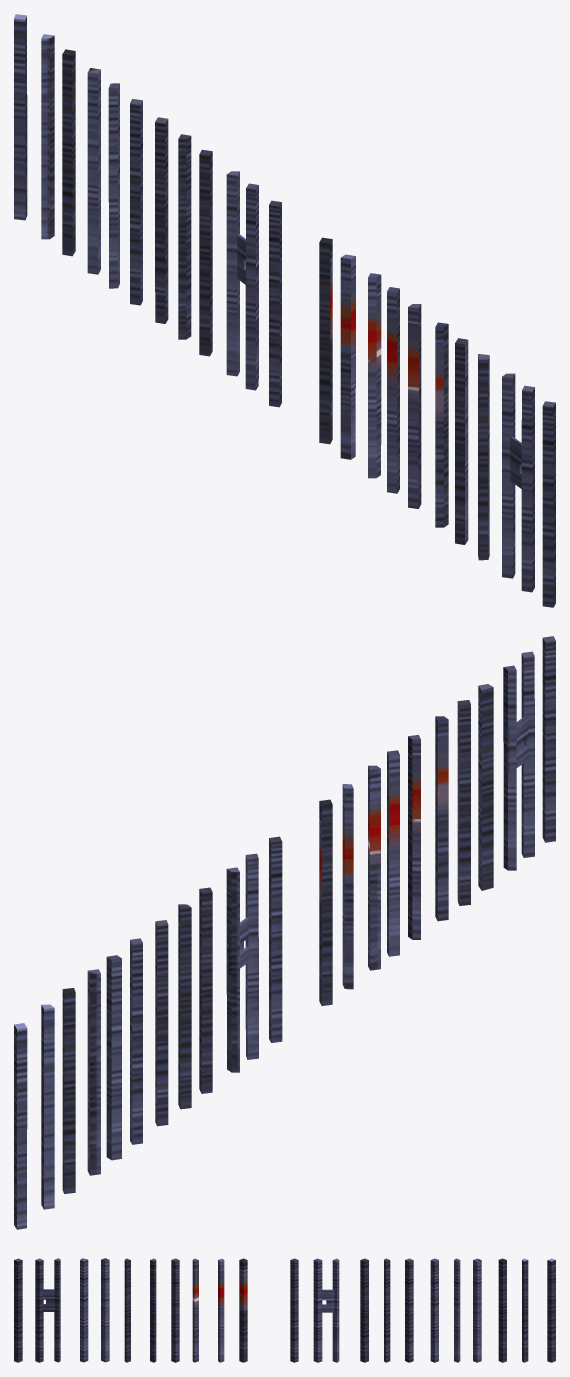
Rendered from Suragim.glb.
3 renders of one model, top to bottom at view 1: azimuth 30°, elevation 25°; view 2: azimuth 150°, elevation 25°; view 3: azimuth 270°, elevation 25°, orthographic. The views are drawn at different scales.
Visible parts, largest first — view 1: Suragim; view 2: Suragim; view 3: Suragim.
Part boxes in pixels (box(x1,y1,x2,y2)): Suragim: box(14, 14, 555, 607); Suragim: box(14, 636, 555, 1229); Suragim: box(14, 1258, 555, 1362).
Size of the model in its own units: 6.32 by 82.01 by 398.
1 material, 1 textured.
